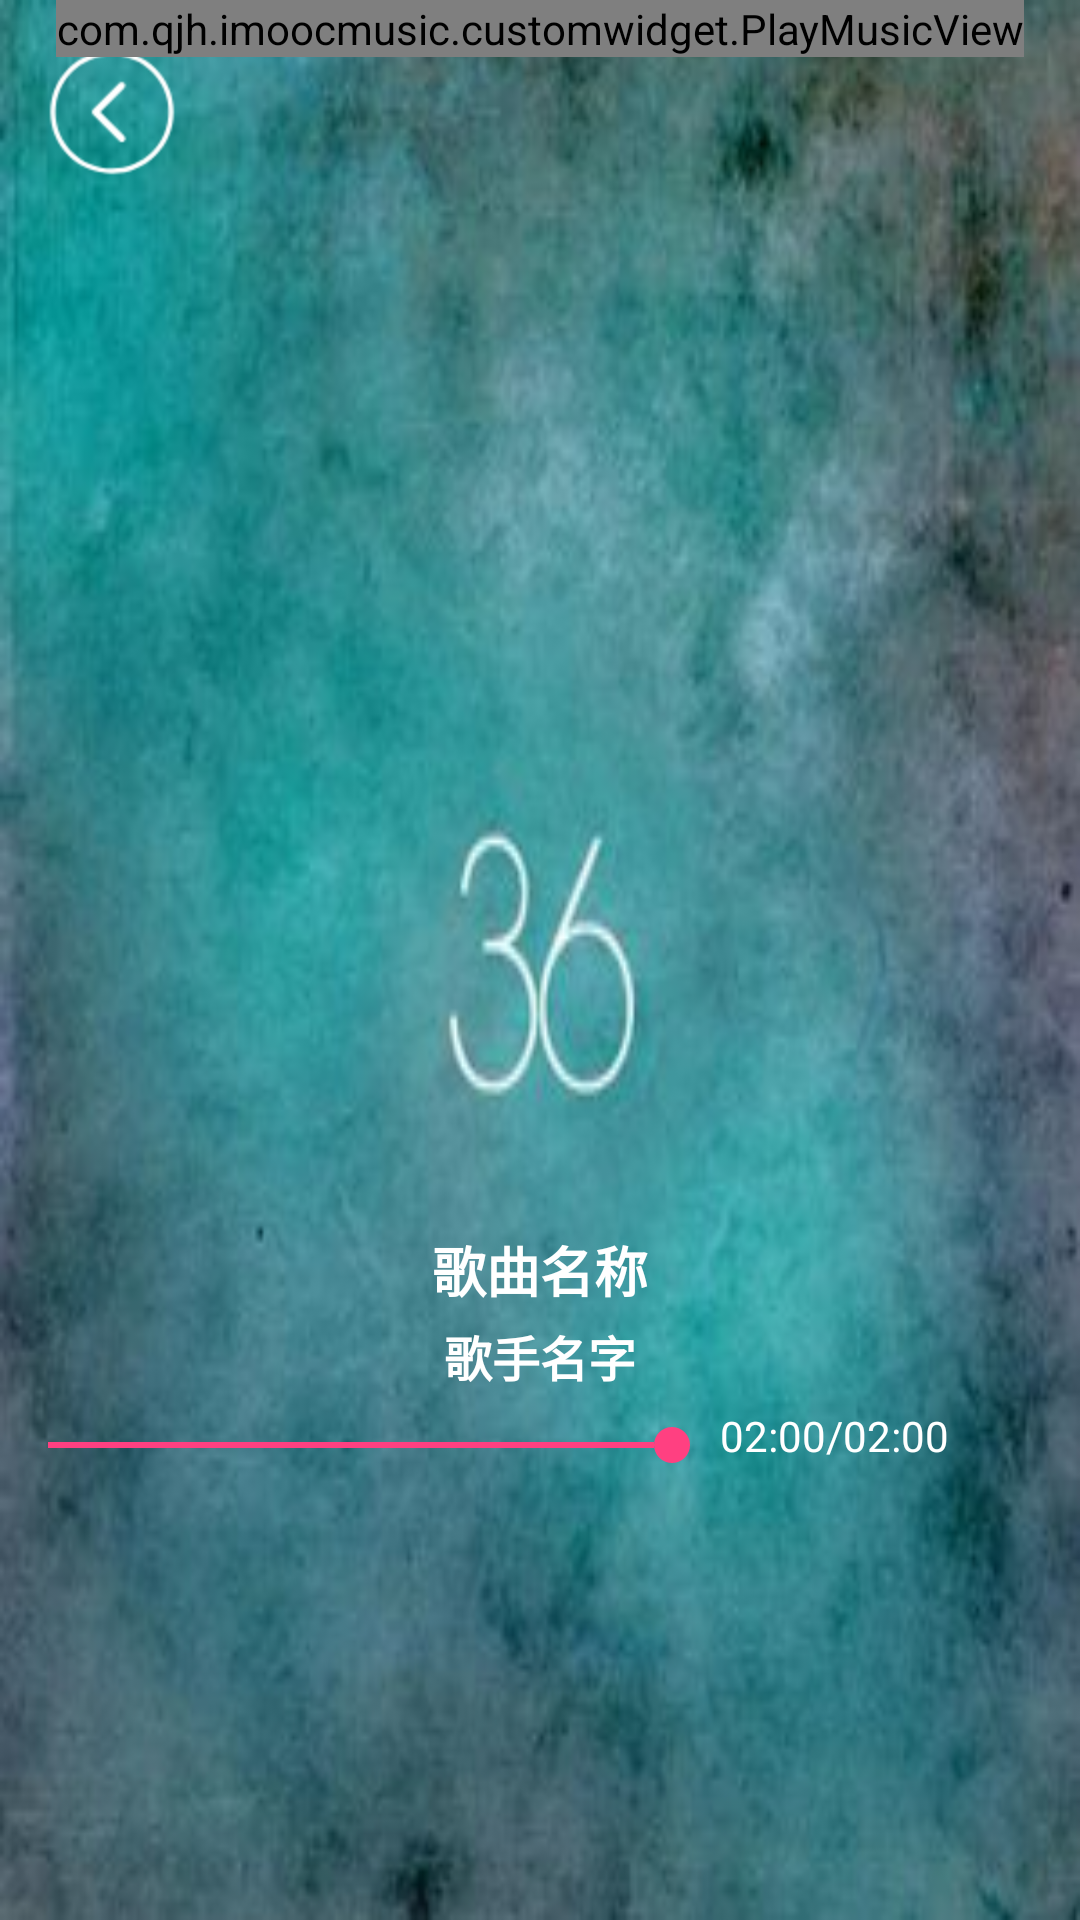

Point at icon controls on the screen. Image size 1080*1920, points as point (x, y).
circle back: point (112, 112)
